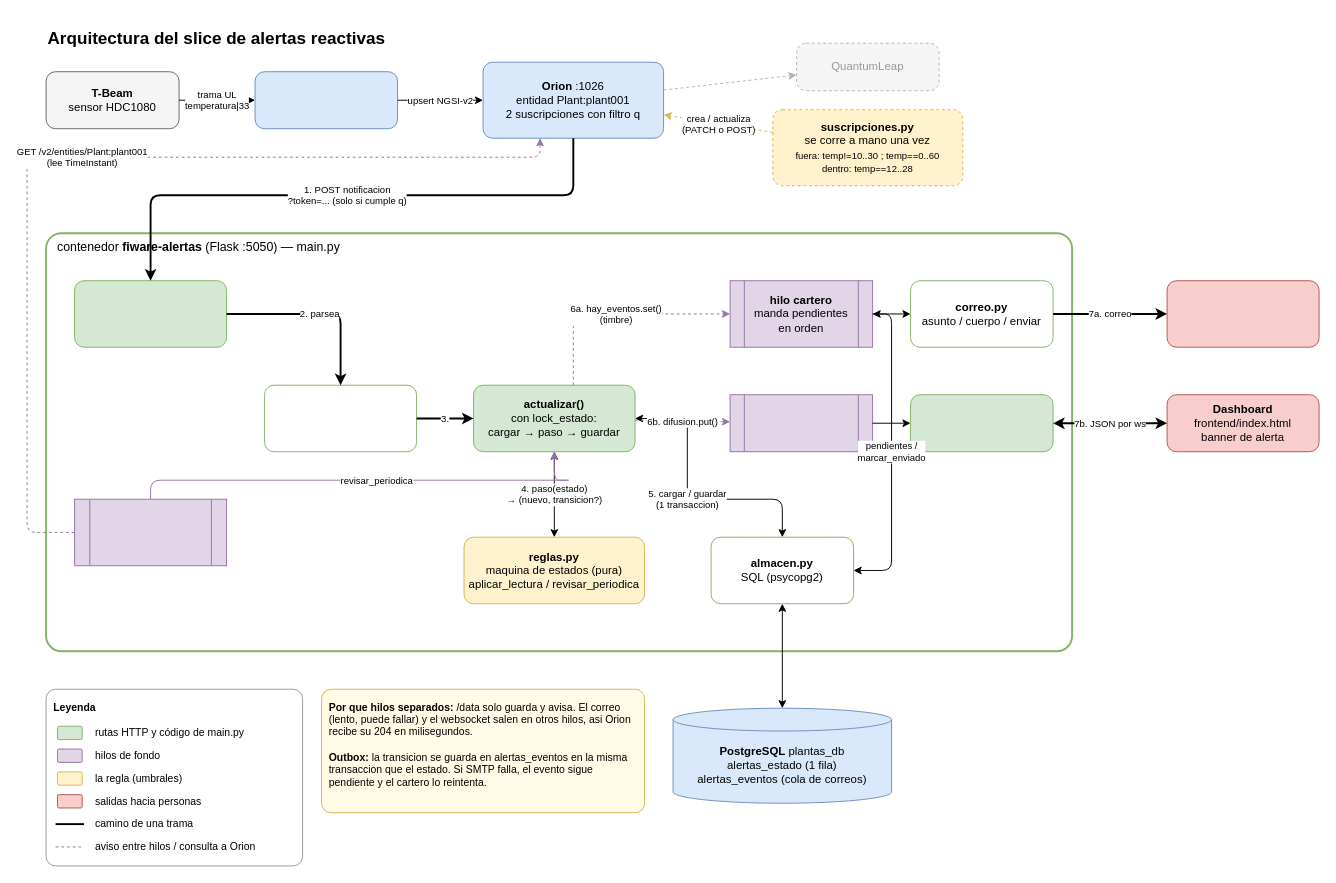
Some shapes in this 1336 by 883 pixel diagram are drawn without their labels. Here are the shapes that lost their labels. From the top down, the centre of each, then its label:
point 326,100: IoT Agent :5555 UltraLight -> NGSI
point 150,313: POST /data valida ?token responde 204 rapido
point 1242,313: SMTP Gmail :465 / mailpit -> ALERTA_DESTINO
point 340,418: ngsi.py JSON de Orion → Lectura(id, valor, ts)
point 801,423: hilo difusor lee la cola difusion
point 981,423: WS /ws y GET /estado
point 150,532: hilo revisar cada 30 s (detecta SIN_DATOS)
